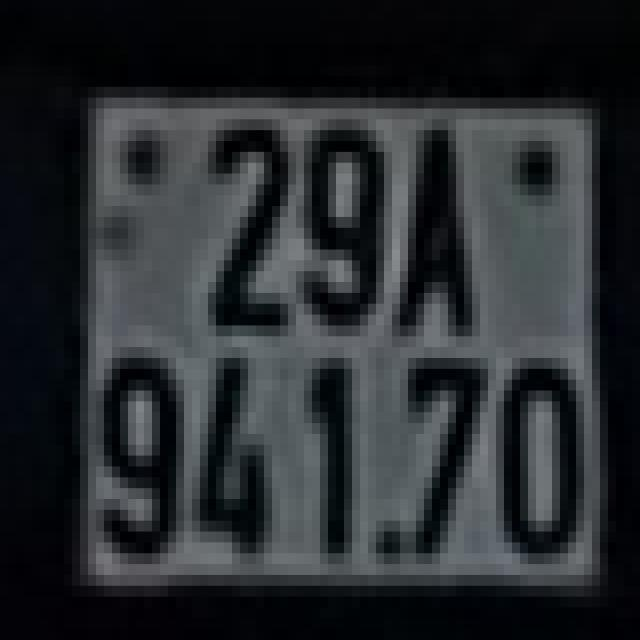0: (504, 358, 584, 554)
1: (304, 358, 360, 554)
2: (200, 120, 288, 336)
4: (192, 347, 272, 564)
7: (408, 358, 488, 554)
9: (96, 347, 184, 564), (304, 120, 384, 336)
A: (392, 119, 480, 347)
